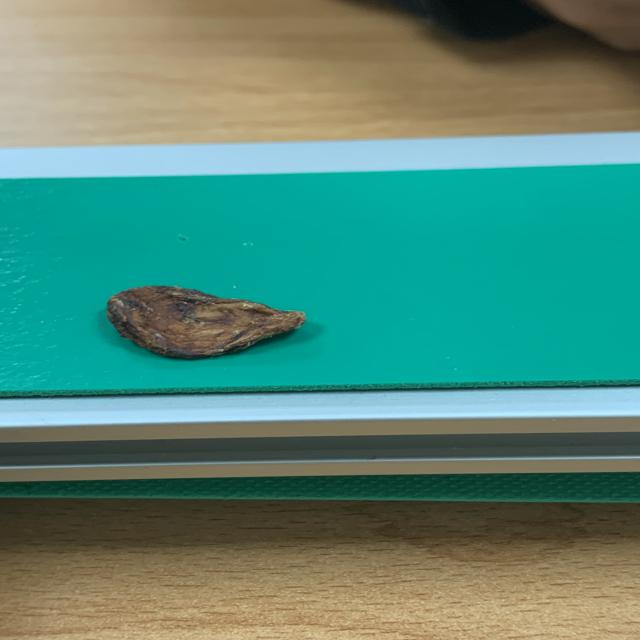Flat_cocoabeans: (50, 262, 369, 393)
